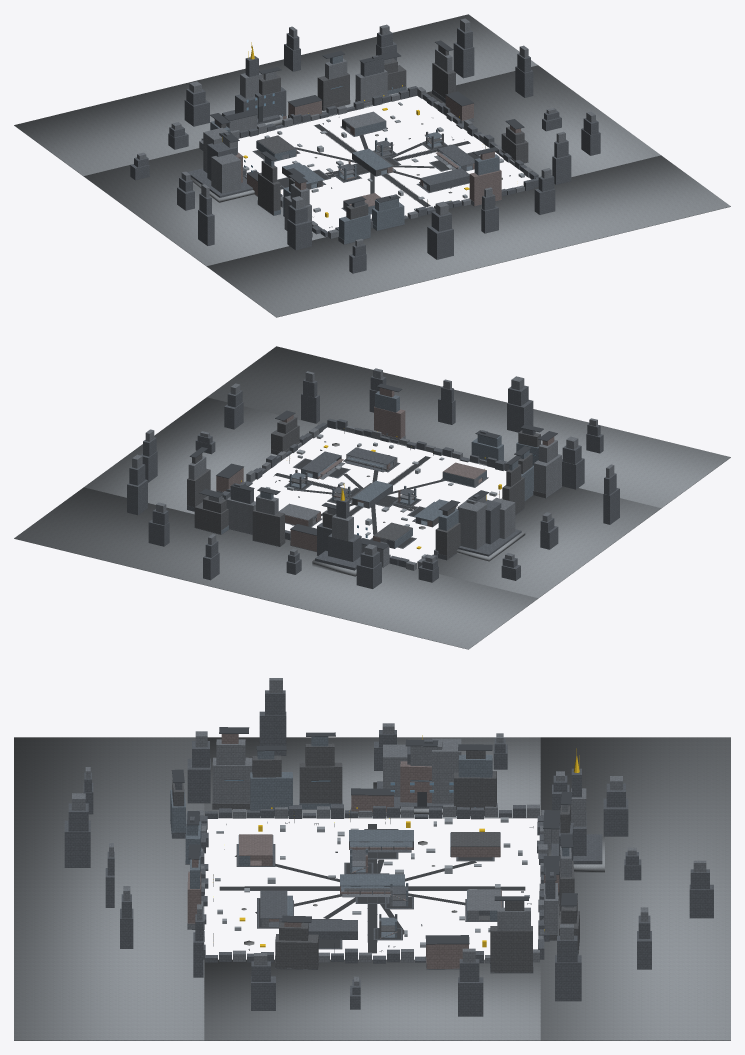
The model's file is okujou-lod1.glb.
3 views of the same model, one above another, from view 1: azimuth 30°, elevation 25°; view 2: azimuth 150°, elevation 25°; view 3: azimuth 270°, elevation 25° (orthographic). The views are drawn at different scales.
Parts seen in each view (by area): view 1: HB_okujou_LOD1_terrain, HB_okujou_LOD1_wall_alt, HB_okujou_LOD1_wall, HB_okujou_LOD1_wall_weathered, HB_okujou_LOD1_wall_cool, HB_okujou_LOD1_wall_warm, HB_okujou_LOD1_trim, HB_okujou_LOD1_road, HB_okujou_LOD1_LANDMARK_1_wall, HB_okujou_LOD1_LANDMARK_1_wall_alt, HB_okujou_LOD1_LANDMARK_0_wall_alt, HB_okujou_LOD1_obstacle; view 2: HB_okujou_LOD1_terrain, HB_okujou_LOD1_wall_alt, HB_okujou_LOD1_wall, HB_okujou_LOD1_wall_weathered, HB_okujou_LOD1_wall_cool, HB_okujou_LOD1_wall_warm, HB_okujou_LOD1_trim, HB_okujou_LOD1_road, HB_okujou_LOD1_LANDMARK_1_wall, HB_okujou_LOD1_LANDMARK_0_wall_alt, HB_okujou_LOD1_LANDMARK_1_wall_alt, HB_okujou_LOD1_obstacle (+1 smaller); view 3: HB_okujou_LOD1_terrain, HB_okujou_LOD1_wall_alt, HB_okujou_LOD1_wall, HB_okujou_LOD1_wall_weathered, HB_okujou_LOD1_wall_cool, HB_okujou_LOD1_wall_warm, HB_okujou_LOD1_road, HB_okujou_LOD1_trim, HB_okujou_LOD1_LANDMARK_1_wall, HB_okujou_LOD1_LANDMARK_0_wall_alt, HB_okujou_LOD1_obstacle.
Part boxes in pixels (x1,y1,x2,y2): HB_okujou_LOD1_terrain: [14, 14, 730, 317]; HB_okujou_LOD1_wall_alt: [130, 27, 600, 273]; HB_okujou_LOD1_wall: [137, 18, 595, 246]; HB_okujou_LOD1_wall_weathered: [214, 45, 528, 237]; HB_okujou_LOD1_wall_cool: [210, 55, 499, 244]; HB_okujou_LOD1_wall_warm: [235, 95, 520, 206]; HB_okujou_LOD1_trim: [210, 40, 524, 227]; HB_okujou_LOD1_road: [253, 124, 480, 211]; HB_okujou_LOD1_LANDMARK_1_wall: [203, 127, 240, 193]; HB_okujou_LOD1_LANDMARK_1_wall_alt: [187, 142, 252, 197]; HB_okujou_LOD1_LANDMARK_0_wall_alt: [222, 56, 280, 124]; HB_okujou_LOD1_obstacle: [243, 102, 524, 212]; HB_okujou_LOD1_terrain: [14, 346, 730, 649]; HB_okujou_LOD1_wall_alt: [127, 376, 619, 588]; HB_okujou_LOD1_wall: [132, 368, 614, 570]; HB_okujou_LOD1_wall_weathered: [187, 416, 545, 559]; HB_okujou_LOD1_wall_cool: [221, 391, 538, 548]; HB_okujou_LOD1_wall_warm: [216, 387, 554, 551]; HB_okujou_LOD1_trim: [189, 383, 557, 549]; HB_okujou_LOD1_road: [274, 456, 487, 548]; HB_okujou_LOD1_LANDMARK_1_wall: [457, 497, 515, 549]; HB_okujou_LOD1_LANDMARK_0_wall_alt: [315, 497, 361, 570]; HB_okujou_LOD1_LANDMARK_1_wall_alt: [458, 499, 521, 556]; HB_okujou_LOD1_obstacle: [265, 434, 497, 557]; HB_okujou_LOD1_terrain: [14, 737, 730, 1040]; HB_okujou_LOD1_wall_alt: [64, 690, 713, 1016]; HB_okujou_LOD1_wall: [72, 678, 706, 985]; HB_okujou_LOD1_wall_weathered: [172, 743, 579, 972]; HB_okujou_LOD1_wall_cool: [170, 736, 577, 954]; HB_okujou_LOD1_wall_warm: [187, 734, 559, 968]; HB_okujou_LOD1_road: [219, 824, 525, 953]; HB_okujou_LOD1_trim: [171, 727, 577, 952]; HB_okujou_LOD1_LANDMARK_1_wall: [383, 738, 461, 803]; HB_okujou_LOD1_LANDMARK_0_wall_alt: [551, 768, 602, 864]; HB_okujou_LOD1_obstacle: [215, 817, 529, 947].
Size of the model in its own units: 640 by 109 by 640.
Materials: 13 (11 with a texture image).
